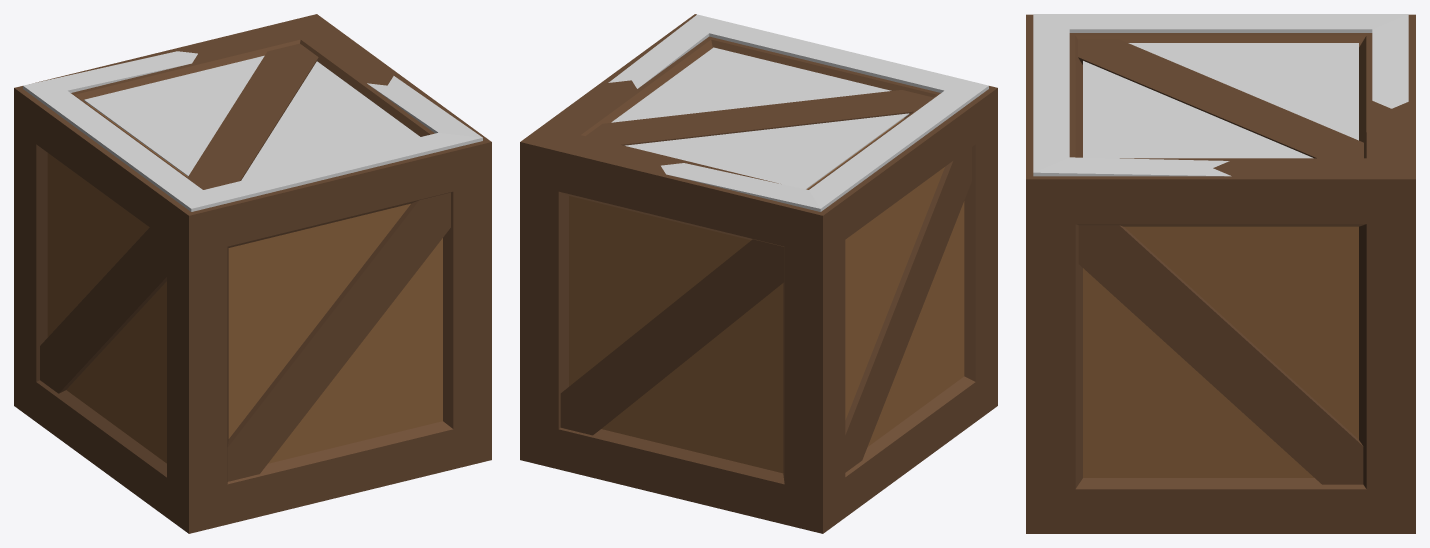
Rendered from Box_snow_mat.fbx.
3 views of the same model, side by side, from view 1: azimuth 30°, elevation 25°; view 2: azimuth 150°, elevation 25°; view 3: azimuth 270°, elevation 25° (orthographic). The views are drawn at different scales.
Visible parts, largest first — view 1: Box_snow_mat; view 2: Box_snow_mat; view 3: Box_snow_mat.
Boxes of the visible parts, x1,y1,x2,y2 form: Box_snow_mat: (14,14,491,533); Box_snow_mat: (520,14,997,533); Box_snow_mat: (1026,14,1415,533).
Bounding box in the file's own units: 0.6234 × 0.632 × 0.6234.
